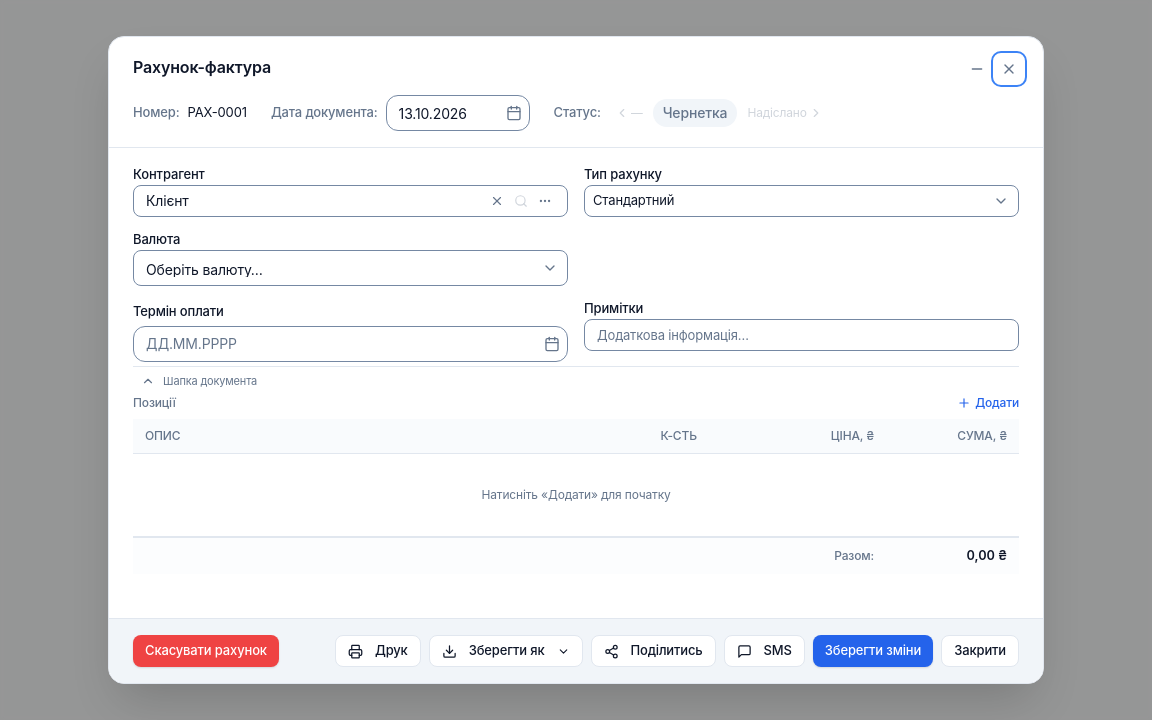
Test: Картка рахунку — сума рядка округлена до копійки (BR-INV-017, клас Bug #811) › рахунок: новий рядок 0,3 × 100,05 — прев’ю 30.02
Click the button "Додати".
click(988, 403)  # box [957,395,1019,411]
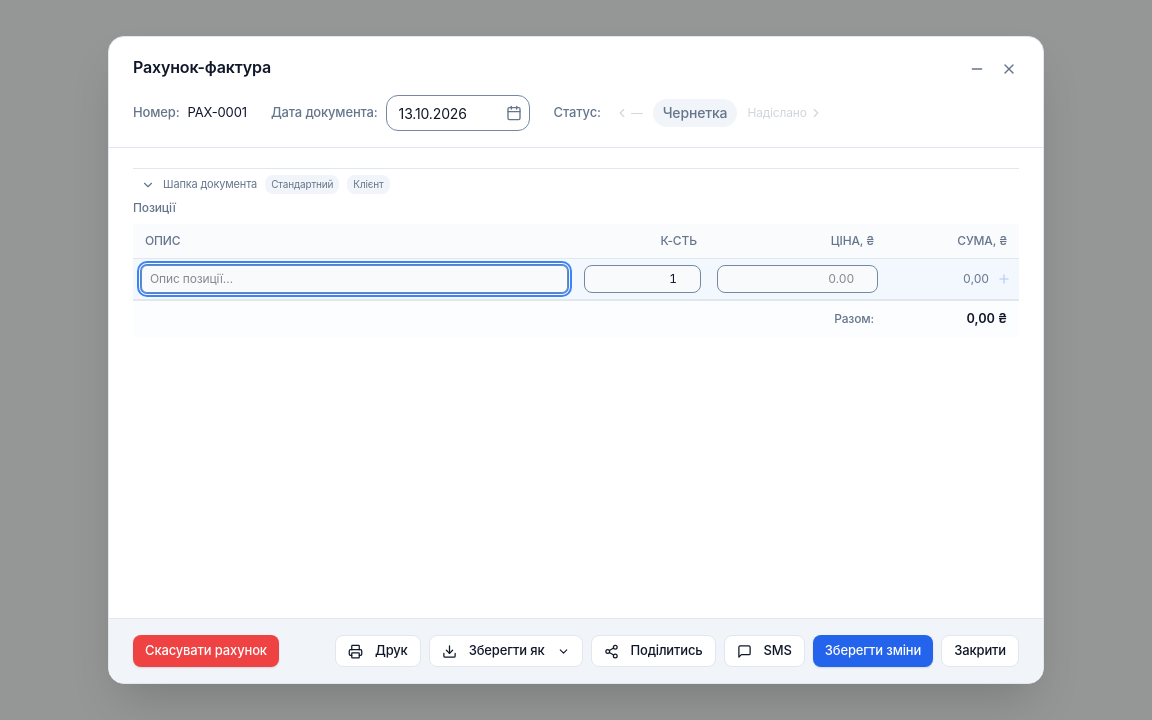
Replace the text in the 1st number field with "0.3" at (642, 279), box [584,265,701,293]
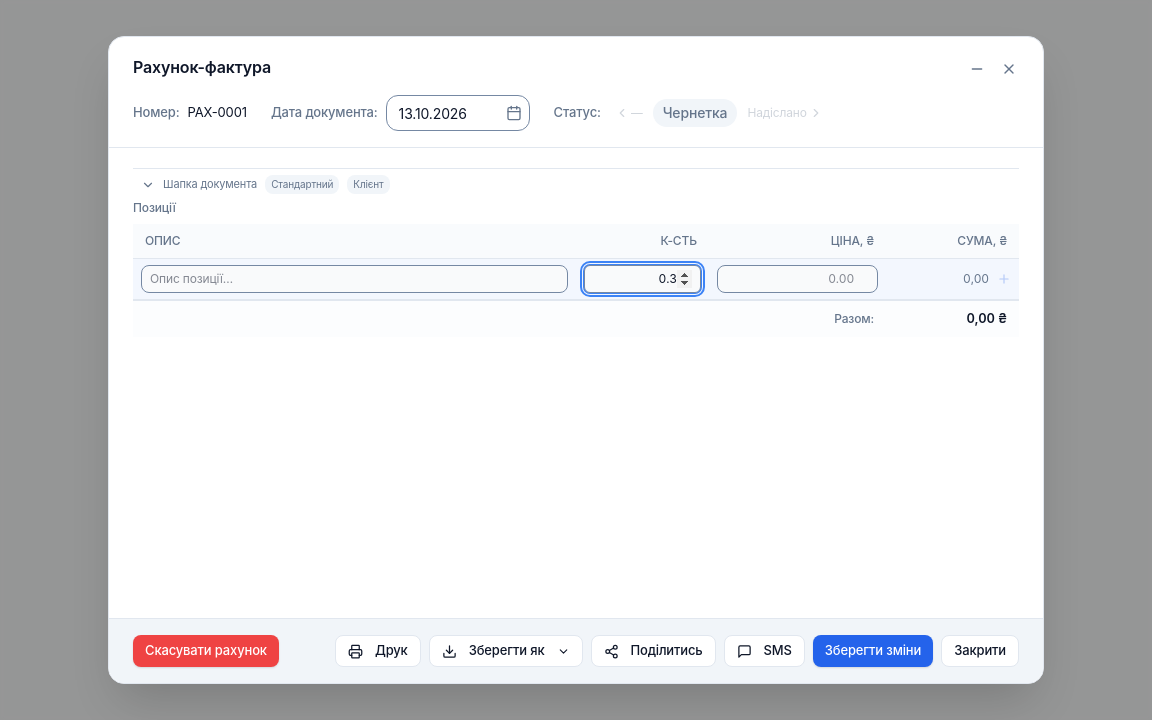
Type "100.05" into the number field with placeholder "0.00".
click(798, 279); type("100.05")  # box [717,265,878,293]
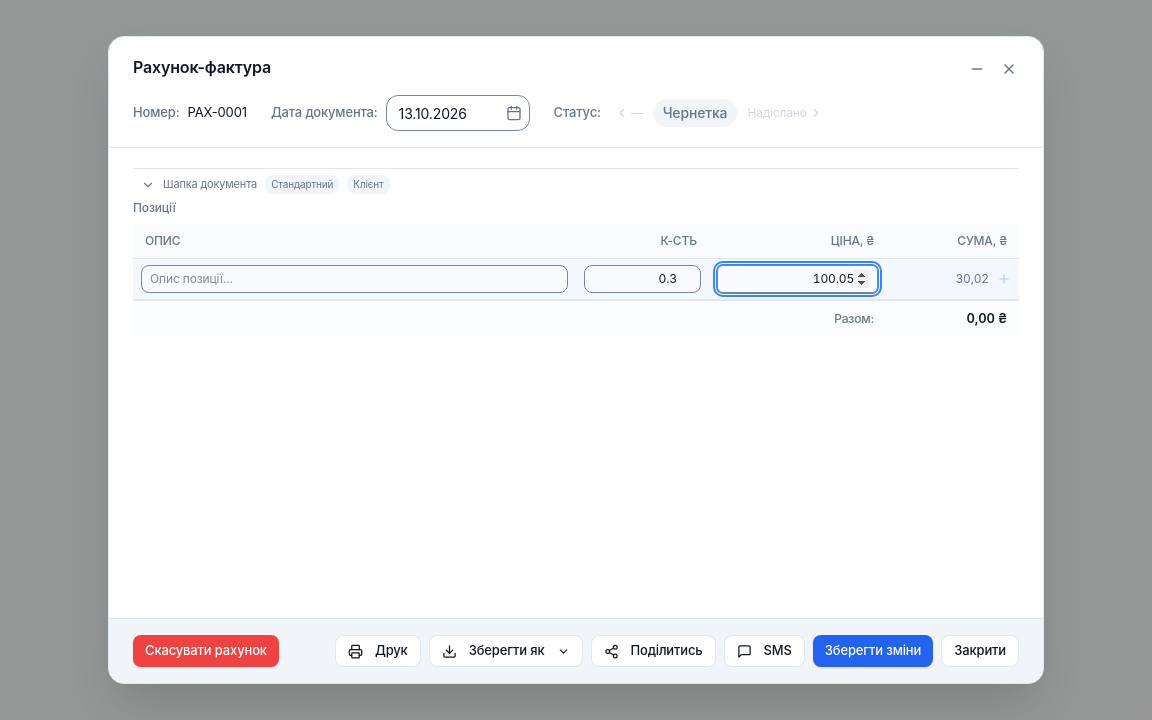
expect the cell "30,02" is shown: met, box [886,258,1019,300]
